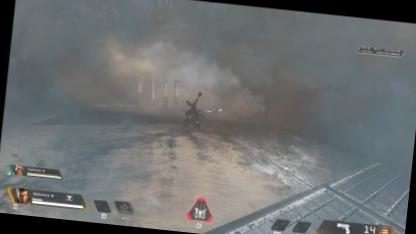Target: (184, 100, 206, 132)
